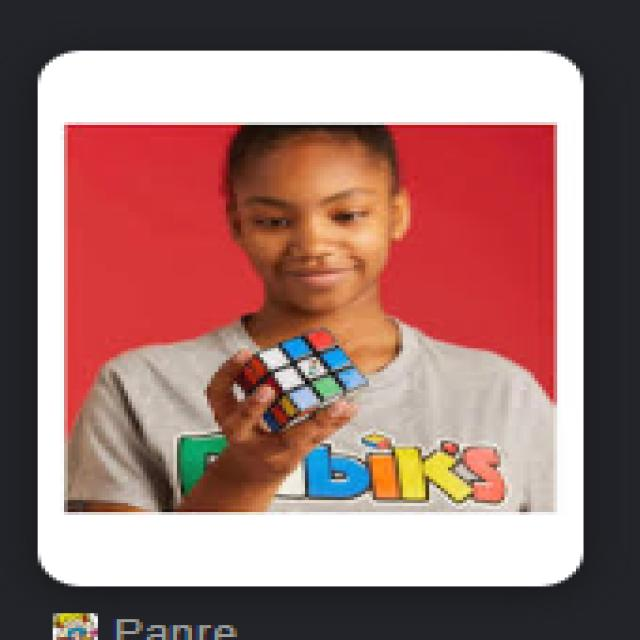Cubo-No-resuelto: (237, 327, 365, 429)
